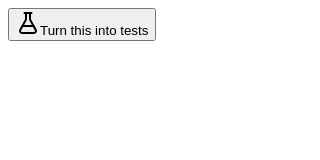
Test: asks for tests from the analyst's answer and says when nothing points to one
This screenshot has width=320, height=160.
Step 1. Click the button "Turn this into tests" → (82, 24), box [8,8,156,41]
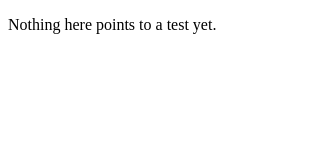
expect the text "Nothing here points to a test yet." is shown: met, box [8,16,216,33]
